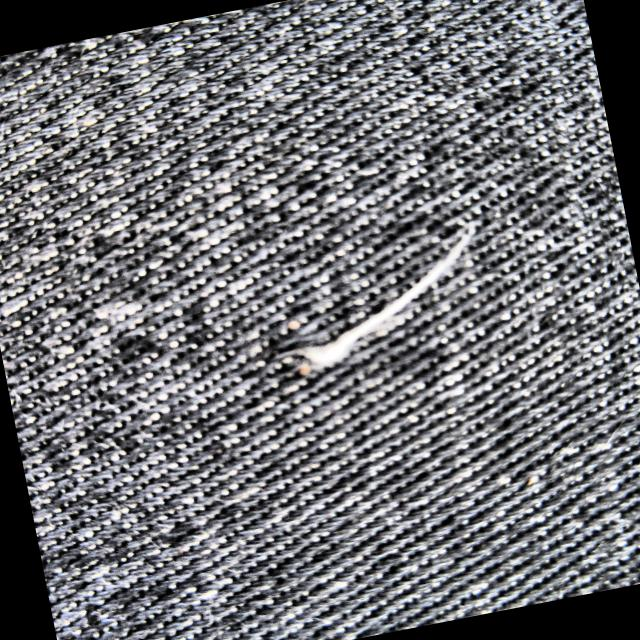Hole: (238, 194, 536, 414)
